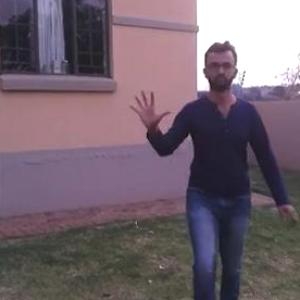follow_hand: (125, 85, 172, 129)
